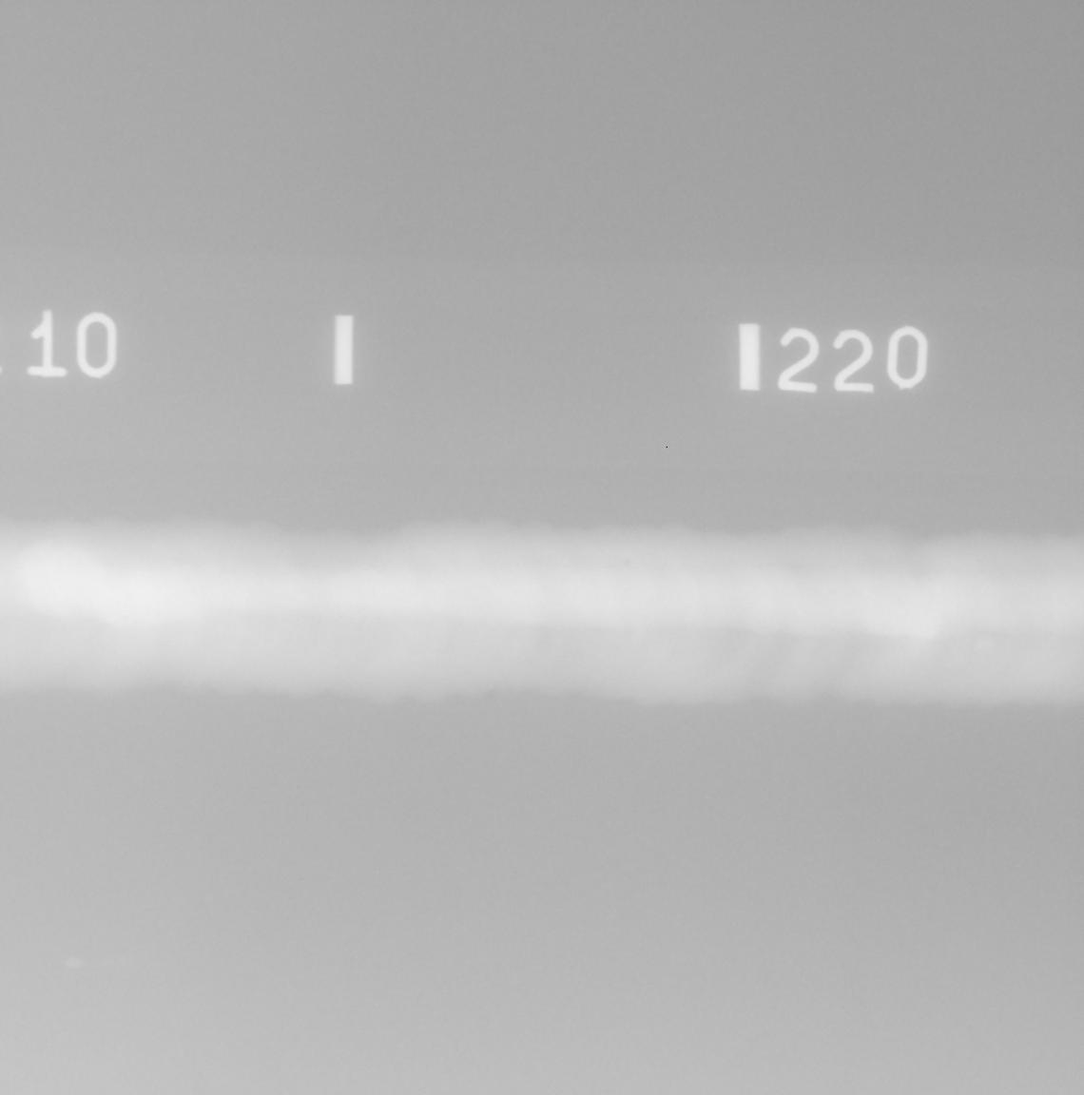Pore/Porosity: (127, 594, 136, 600), (623, 560, 631, 565), (831, 590, 835, 595)
